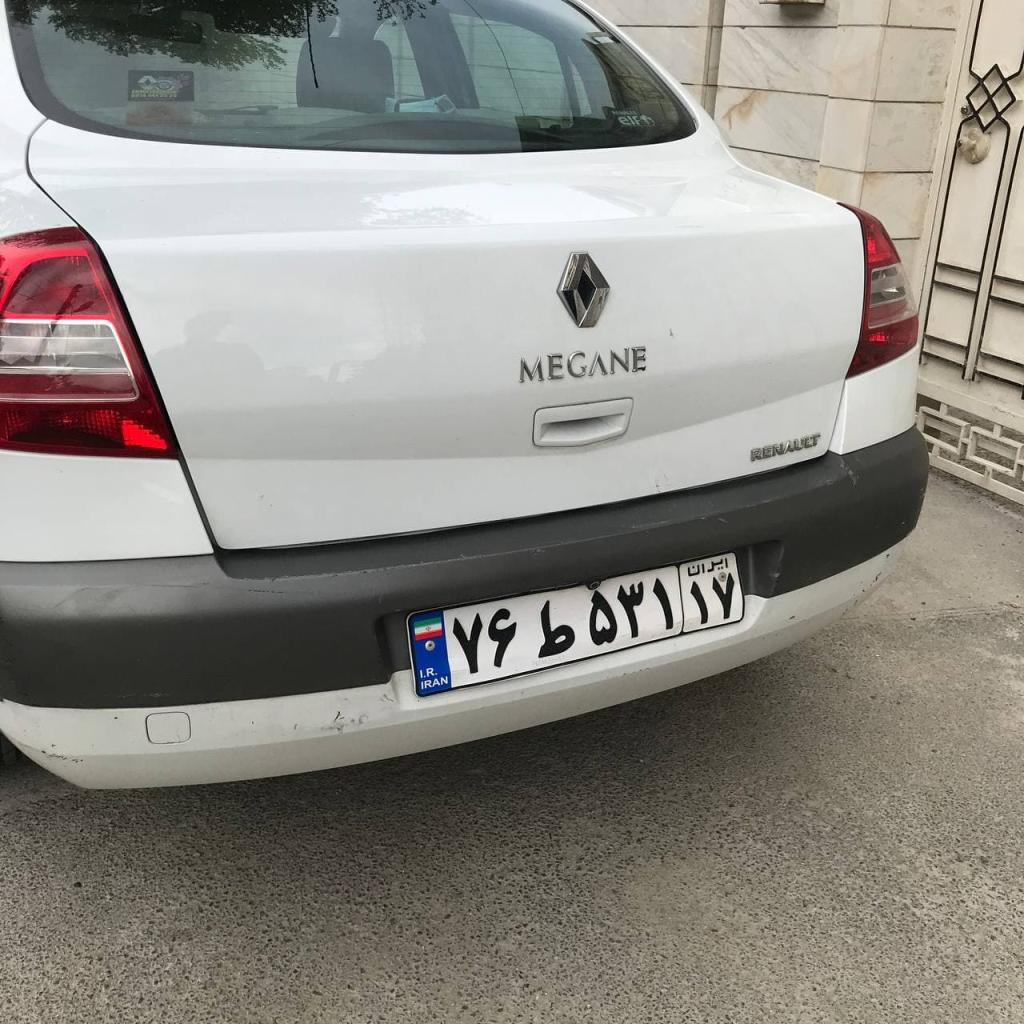Plates: (406, 552, 744, 697)
